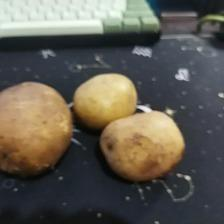Damaged potato: (1, 79, 76, 176), (99, 108, 189, 183)
Potato: (72, 71, 139, 129)
